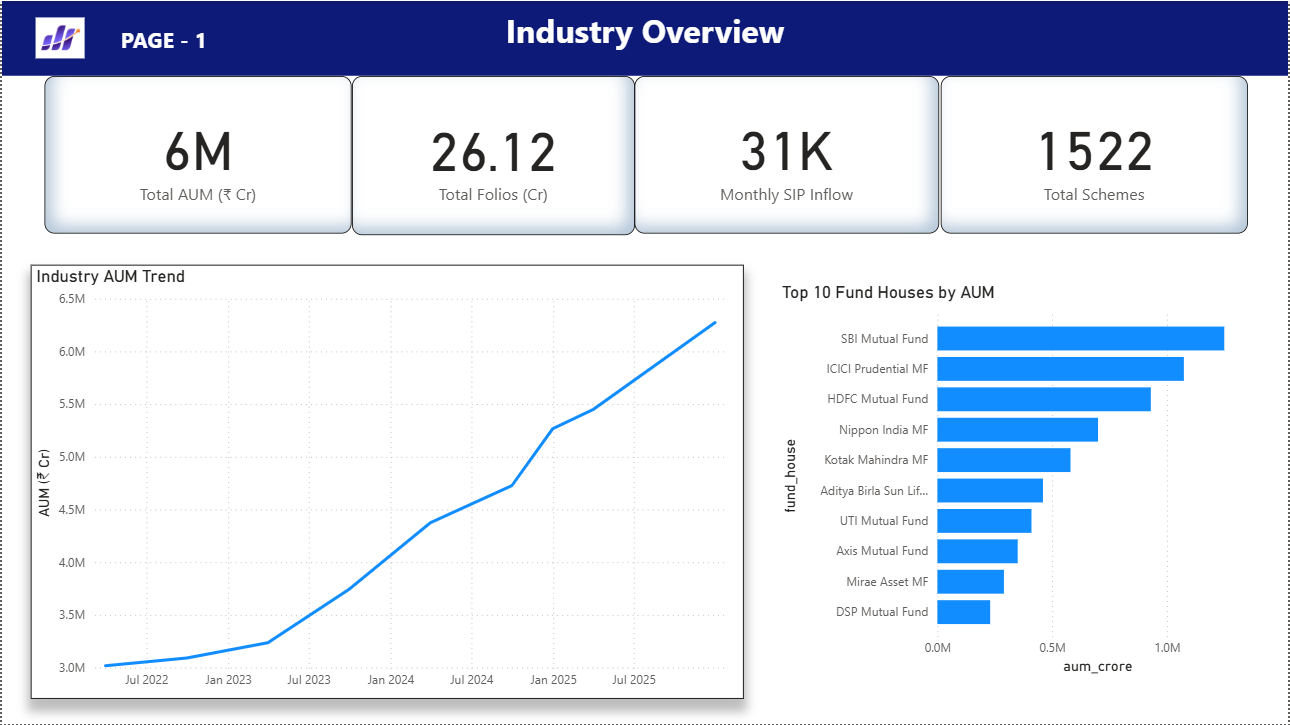

The dashboard page shown, as its layout file describes it:
{"tool":"powerbi","page":{"name":"Industry Overview","canvas":[1280,720],"ordinal":0},"visuals":[{"type":"lineChart","title":"Industry AUM Trend","fields":{"Y":["Sum(03_aum_by_fund_house.aum_crore)"],"Category":["03_aum_by_fund_house.date"]},"box":[28.8,262.1,709.4,432.2],"z":0},{"type":"clusteredBarChart","title":"Top 10 Fund Houses by AUM","fields":{"Y":["Sum(03_aum_by_fund_house.aum_crore)"],"Category":["03_aum_by_fund_house.fund_house"]},"box":[771.4,280,498.6,395.7],"z":1000},{"type":"textbox","box":[0,0,1280,74.3],"z":2000},{"type":"card","fields":{"Values":["01_fund_master.Latest Total AUM"]},"box":[42.9,74.3,305.7,157.1],"z":3000},{"type":"card","fields":{"Values":["01_fund_master.Latest Total Folios"]},"box":[348.6,74.3,281.4,158.6],"z":4000},{"type":"card","fields":{"Values":["01_fund_master.Latest SIP Inflow"]},"box":[630,74.3,302.9,157.1],"z":5000},{"type":"card","fields":{"Values":["01_fund_master.Latest Total Schemes"]},"box":[934.3,74.3,305.7,157.1],"z":6000},{"type":"image","box":[29.2,10.2,58.4,54],"z":7000},{"type":"textbox","box":[100.2,19.2,120.8,43.9],"z":7001}]}

Visuals, with their boxes in screenshot pixels (x1, y1, x2, y2), scaled from the page's 1280x720 canvas onto the 1290x725 screenshot:
"Industry AUM Trend" lineChart: <bbox>29, 264, 744, 699</bbox>
"Top 10 Fund Houses by AUM" clusteredBarChart: <bbox>777, 282, 1280, 680</bbox>
textbox: <bbox>0, 0, 1289, 75</bbox>
card - 01_fund_master.Latest Total AUM: <bbox>43, 75, 351, 233</bbox>
card - 01_fund_master.Latest Total Folios: <bbox>351, 75, 635, 235</bbox>
card - 01_fund_master.Latest SIP Inflow: <bbox>635, 75, 940, 233</bbox>
card - 01_fund_master.Latest Total Schemes: <bbox>942, 75, 1250, 233</bbox>
image: <bbox>29, 10, 88, 65</bbox>
textbox: <bbox>101, 19, 223, 64</bbox>
